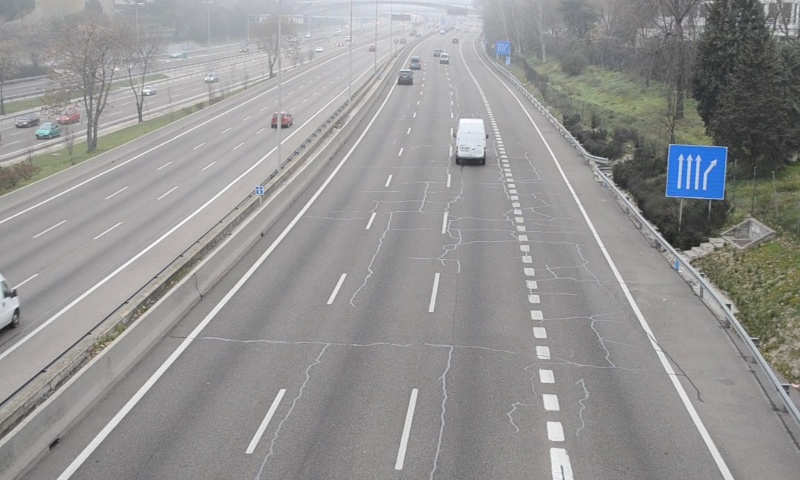car: (398, 68, 414, 86)
van: (454, 118, 488, 165)
